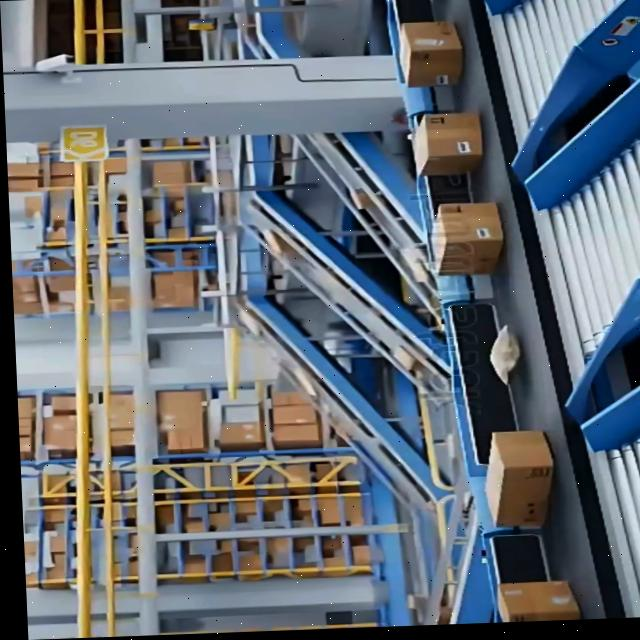product 1: (427, 200, 506, 277), (410, 110, 485, 177), (397, 41, 468, 86)
product 2: (484, 324, 525, 385)
